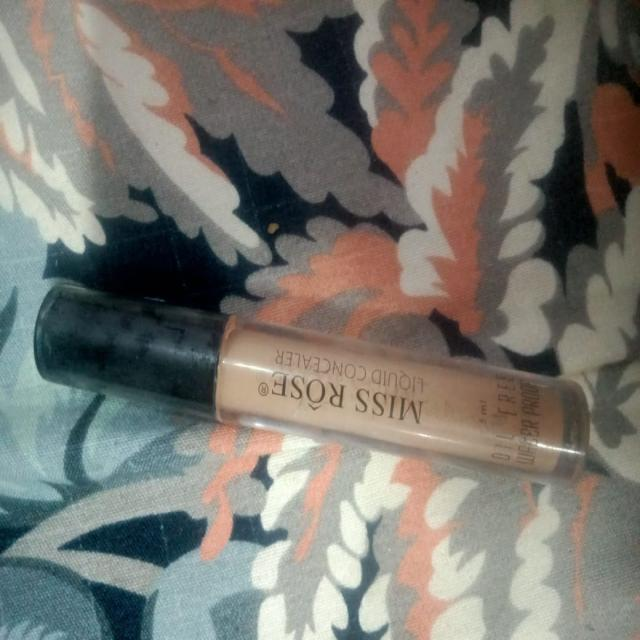concealer: (16, 243, 615, 512)
